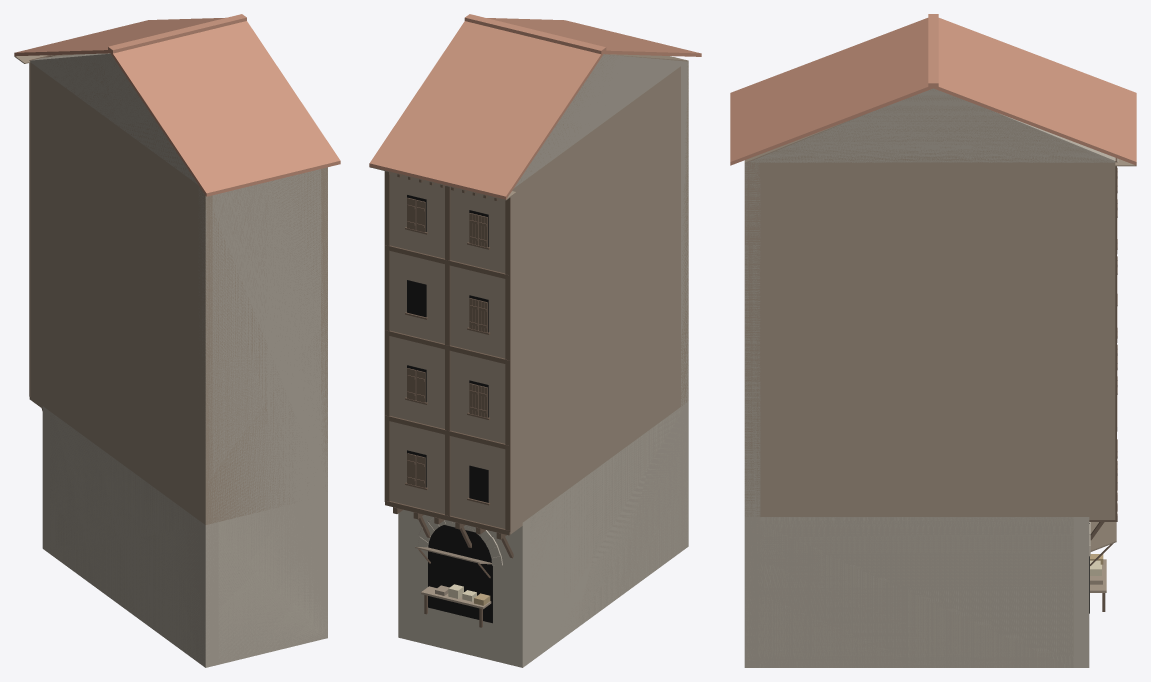
The model's file is casa-52-4-legno.glb.
3 renders of one model, left to right at view 1: azimuth 30°, elevation 25°; view 2: azimuth 150°, elevation 25°; view 3: azimuth 270°, elevation 25°, orthographic. The views are drawn at different scales.
Parts seen in each view (by area): view 1: vicino, lontano; view 2: vicino, lontano, aperta; view 3: vicino, lontano, aperta.
Boxes of the visible parts, x1=… form: vicino: x1=14, y1=14, x2=340, y2=667; lontano: x1=14, y1=51, x2=340, y2=666; vicino: x1=369, y1=14, x2=701, y2=667; lontano: x1=370, y1=51, x2=701, y2=667; aperta: x1=415, y1=547, x2=491, y2=627; vicino: x1=730, y1=14, x2=1136, y2=667; lontano: x1=731, y1=86, x2=1136, y2=667; aperta: x1=1090, y1=522, x2=1116, y2=611.
Size of the model in its own units: 5.7 by 22.57 by 14.15.
